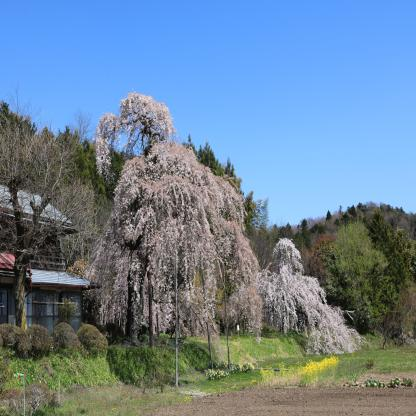ShidareZakura: (86, 90, 264, 343), (263, 236, 368, 356)
